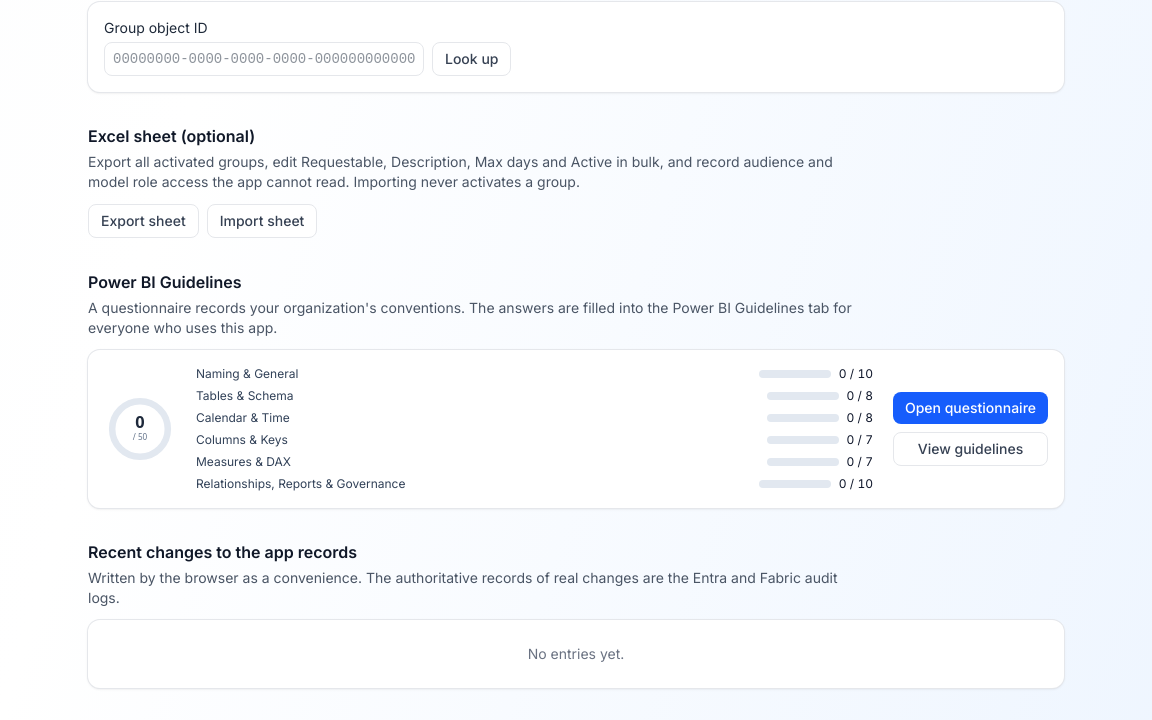
it: the questionnaire in Setup › is reached from Setup
The width and height of the screenshot is (1152, 720).
(page scrolled)
Step 1. Click the link "Open questionnaire" → (970, 408), box [893,392,1048,424]
(page scrolled)
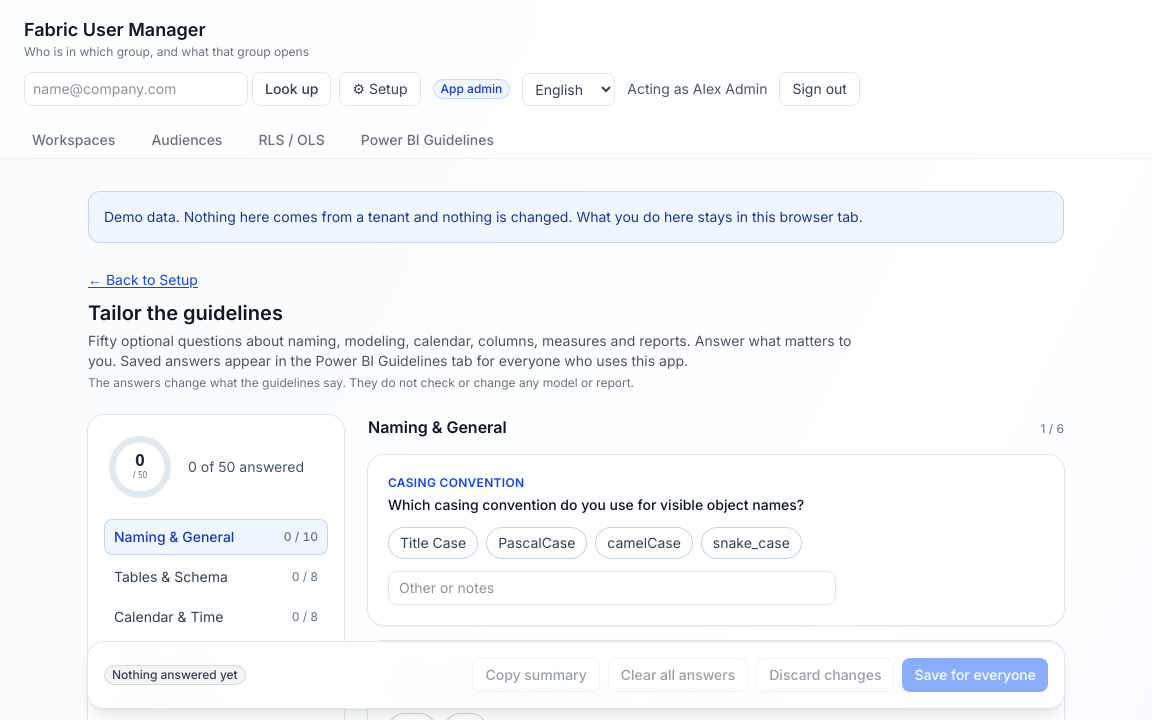
Expected: the heading "Tailor the guidelines" is shown, [88,301,283,325]
